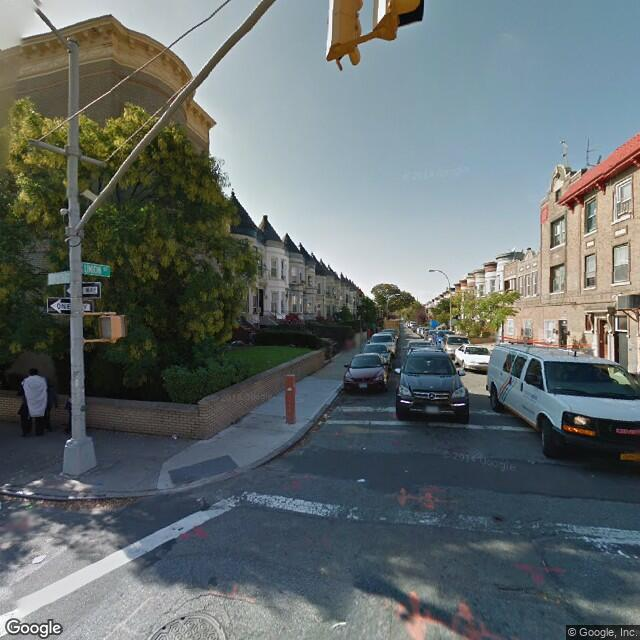litter: (309, 410, 341, 431), (356, 469, 383, 486), (169, 427, 189, 439)
